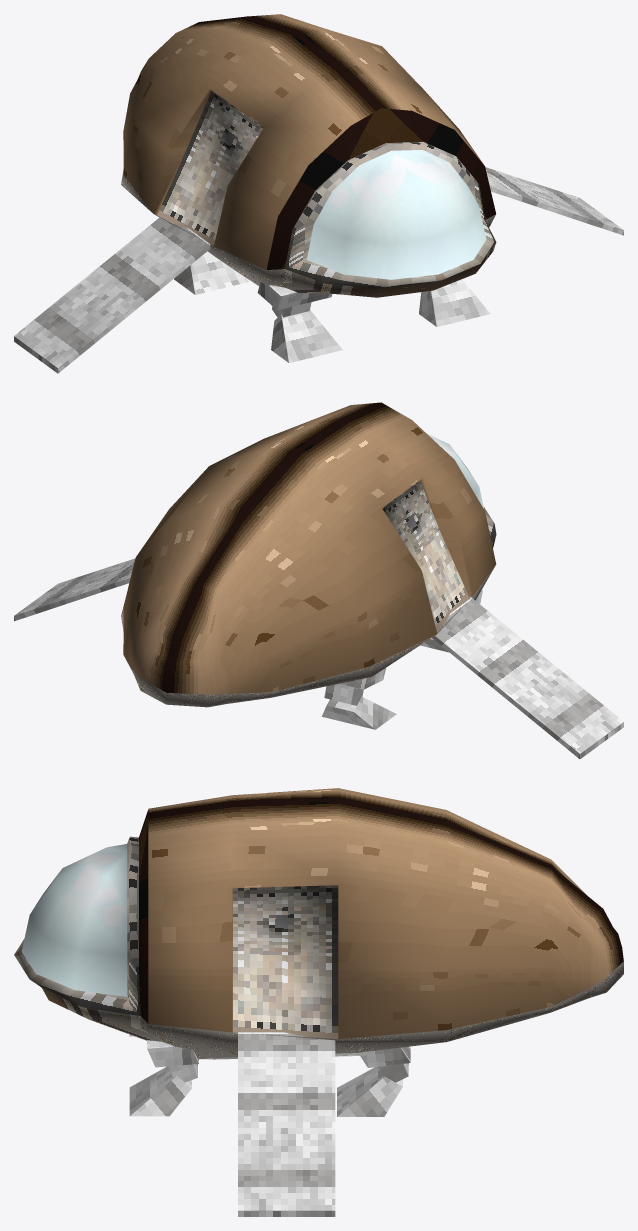
The model's file is BeetleShipLanded.fbx.
3 views of the same model, one above another, from view 1: azimuth 30°, elevation 25°; view 2: azimuth 150°, elevation 25°; view 3: azimuth 270°, elevation 25° (orthographic). The views are drawn at different scales.
Parts seen in each view (by area): view 1: main; view 2: main; view 3: main.
Part boxes in pixels (box(x1,y1,x2,y2)): main: box(14, 14, 623, 373); main: box(14, 402, 623, 758); main: box(14, 788, 623, 1216).
Bounding box in the file's own units: 685 × 578 × 277.
Materials: 1 (1 with a texture image).
